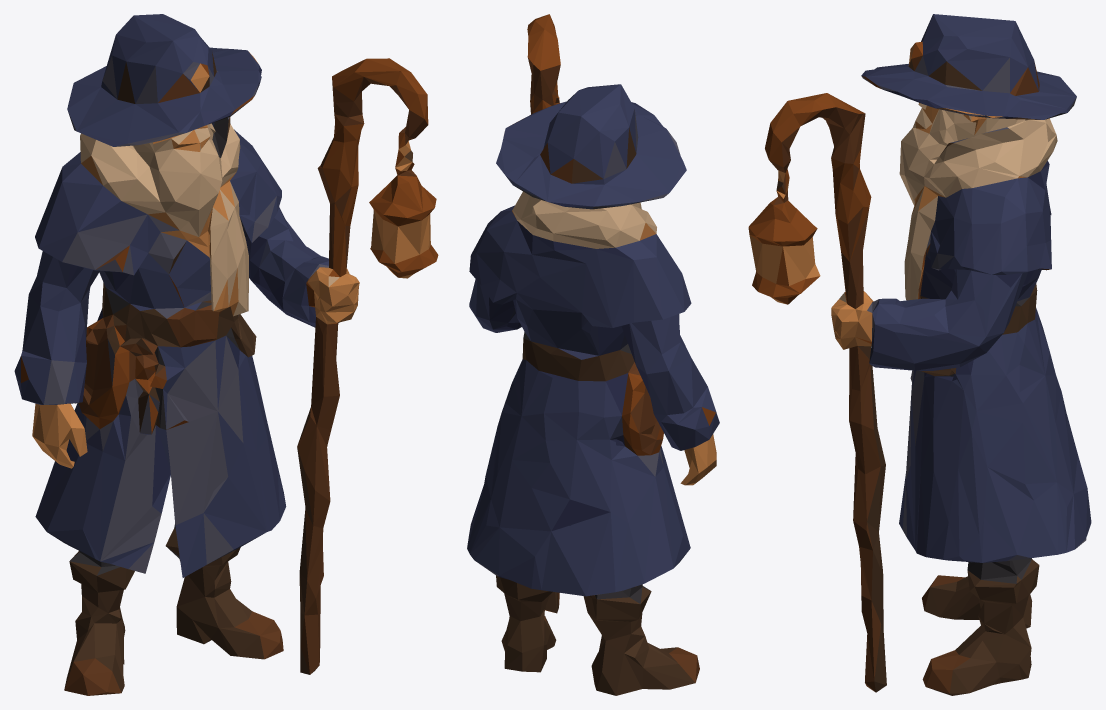
The model's file is keeper.glb.
3 views of the same model, side by side, from view 1: azimuth 30°, elevation 25°; view 2: azimuth 150°, elevation 25°; view 3: azimuth 270°, elevation 25° (orthographic). The views are drawn at different scales.
Parts seen in each view (by area): view 1: keeper; view 2: keeper; view 3: keeper.
Boxes of the visible parts, x1=… form: keeper: x1=14, y1=14, x2=438, y2=695; keeper: x1=467, y1=14, x2=719, y2=695; keeper: x1=748, y1=14, x2=1091, y2=695.
Bounding box in the file's own units: 1.04 × 2.05 × 1.02.
